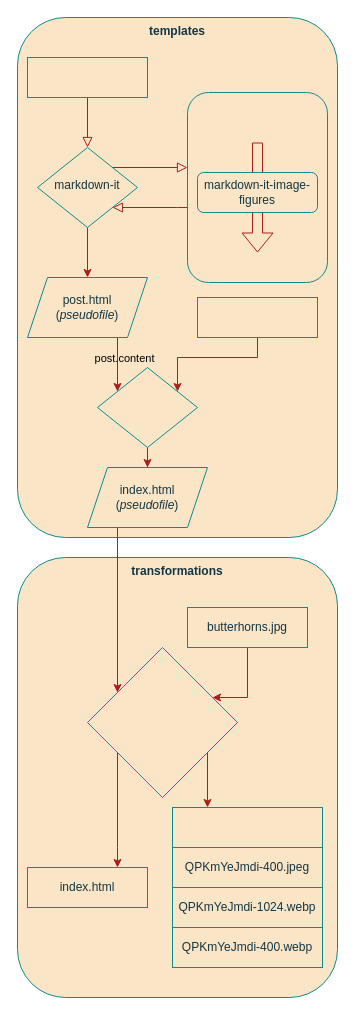
Some shapes in this 355 by 1015 pixel diagram are drawn without their labels. The shapes that lost their labels are listed below. From the top down, each one's box as (x1, y1, x2, y2) in pixels, then its label:
(26, 56, 148, 98): post.md
(186, 92, 328, 282): markdown-it plugins
(196, 296, 318, 338): index.njk
(96, 366, 198, 448): nunjucks
(86, 646, 238, 798): @11ty/eleventy-img
(172, 806, 322, 848): QPKmYeJmdi-1024.jpeg
